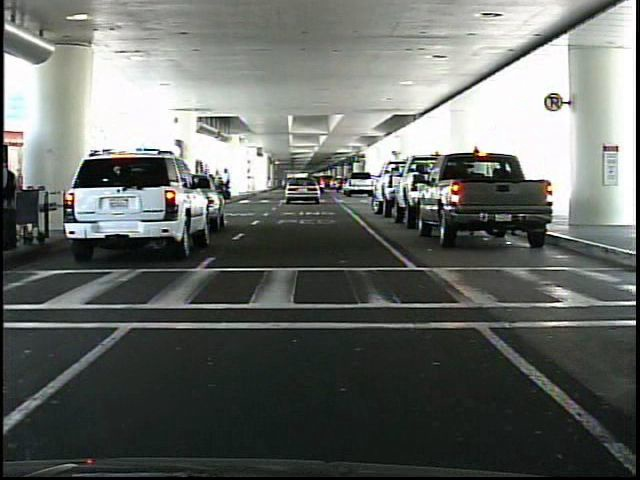person: (4, 149, 22, 259)
